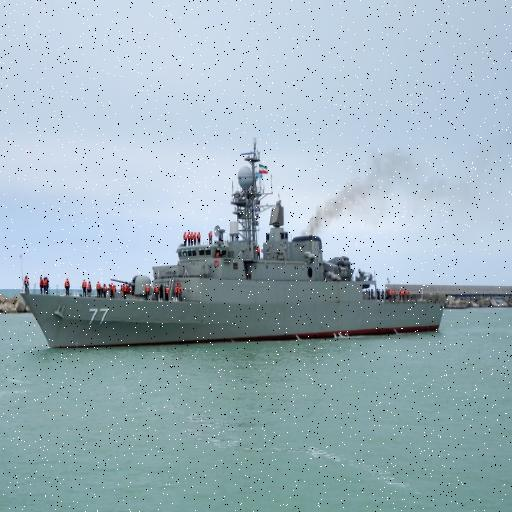Fragata: (20, 136, 449, 356)
